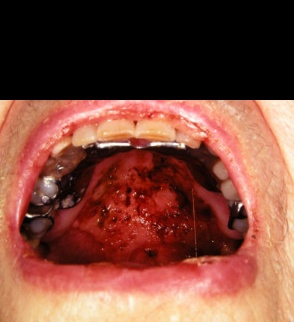SJS-TEN: (46, 133, 246, 319)
